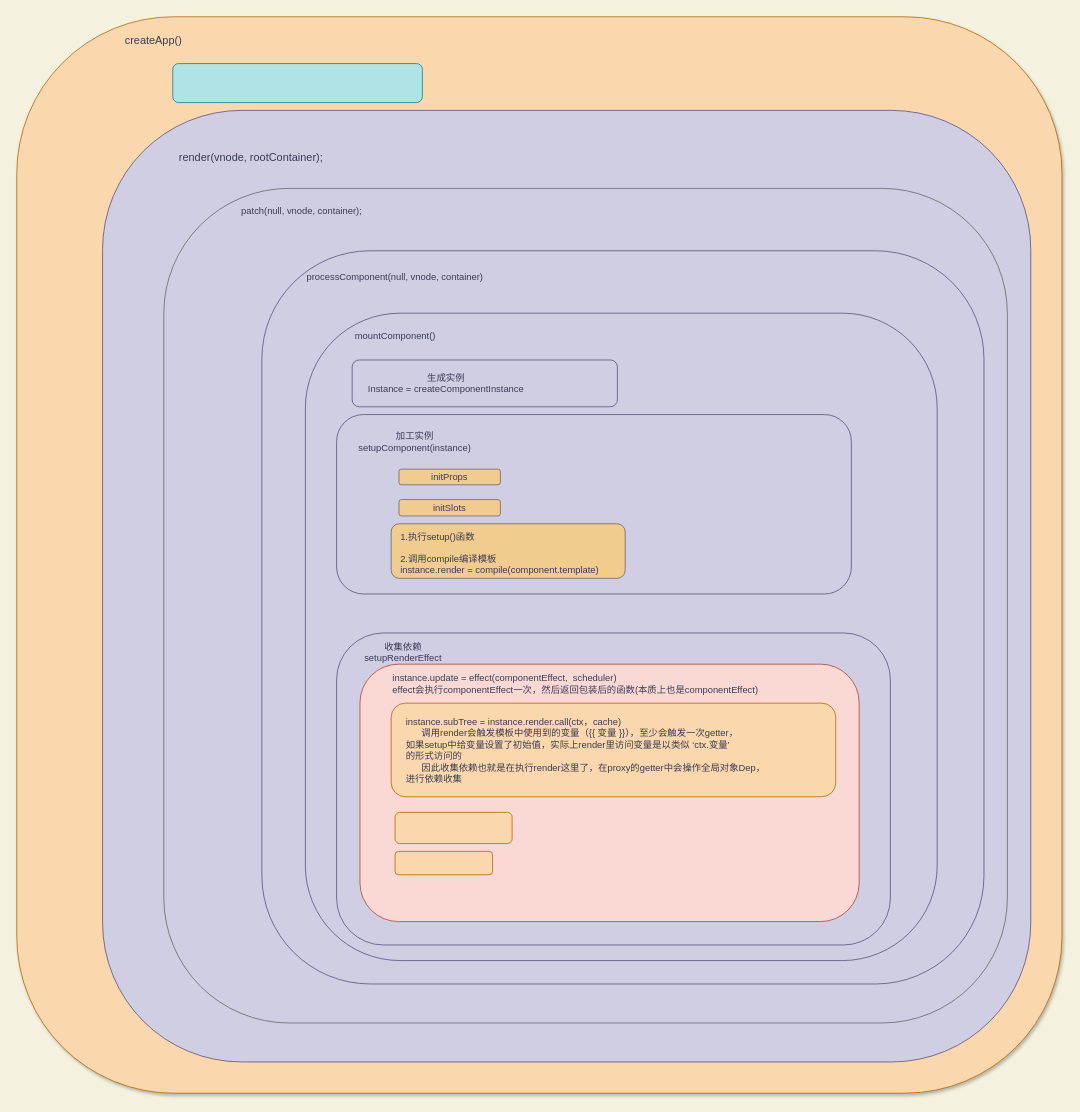
Image size: 1080x1112. Some labels were removed from this diagram. The shapes that lost their labels are listed below. From the top down, each one's centre as x and y in pixels, then its label:
At pixel 297 83: "vnode = createVNode(rootContainer);".
At pixel 453 828: "beforeMount阶段".
At pixel 443 863: "patch".
